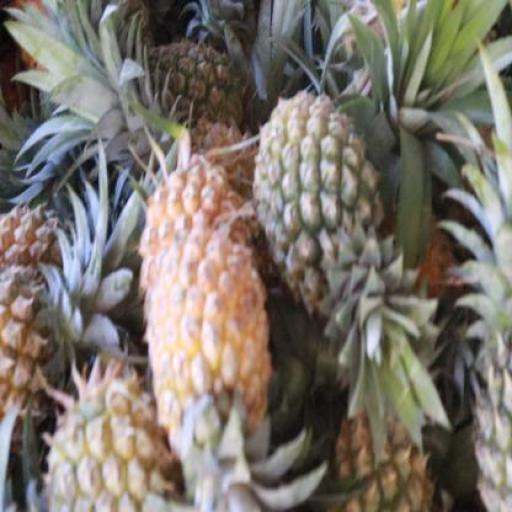------------------------------: (254, 98, 382, 296)
Pineapple - v8 v1: (152, 231, 264, 474)
